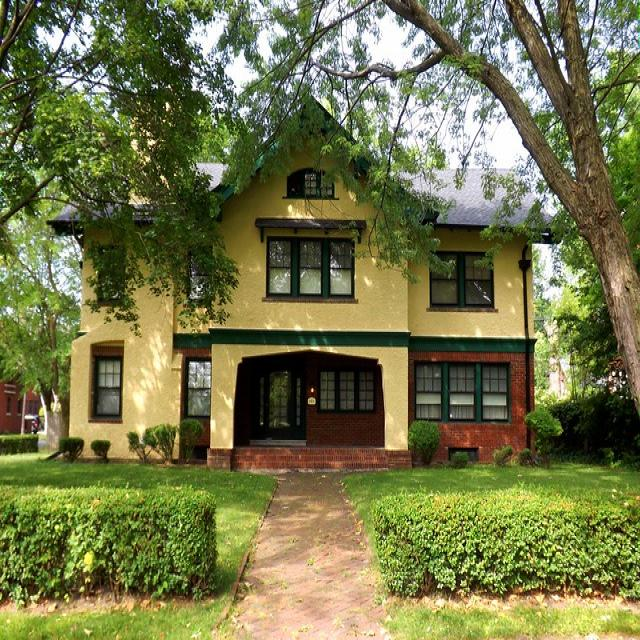building: (45, 89, 558, 470)
